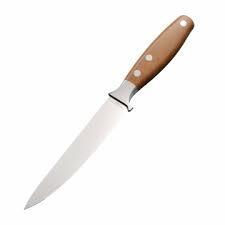Knife: (23, 14, 194, 210)
